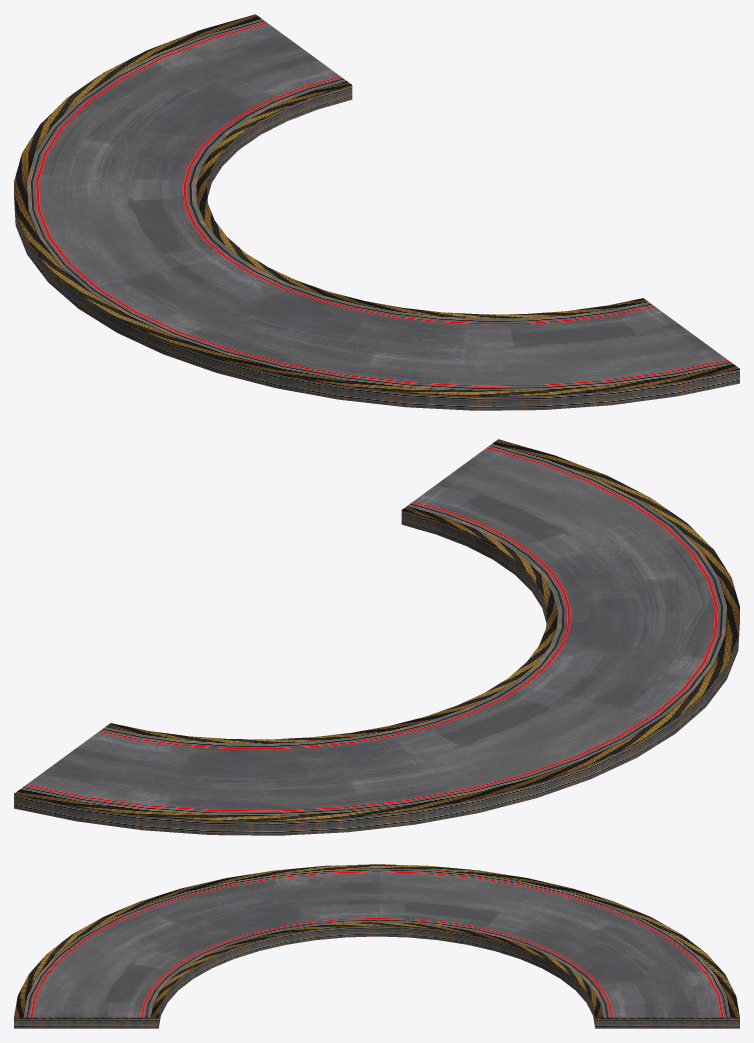
Rendered from Ramp_c5.FBX.
The picture shows the model from 3 angles, top to bottom: view 1: azimuth 30°, elevation 25°; view 2: azimuth 150°, elevation 25°; view 3: azimuth 270°, elevation 25°; orthographic projection. The views are drawn at different scales.
Parts seen in each view (by area): view 1: Box016; view 2: Box016; view 3: Box016.
Part boxes in pixels (x1,y1,x2,y2): Box016: (14, 14, 739, 410); Box016: (14, 439, 739, 835); Box016: (14, 864, 739, 1028).
Bounding box in the file's own units: 2396 × 80.84 × 4792.
Materials: 1 (1 with a texture image).
